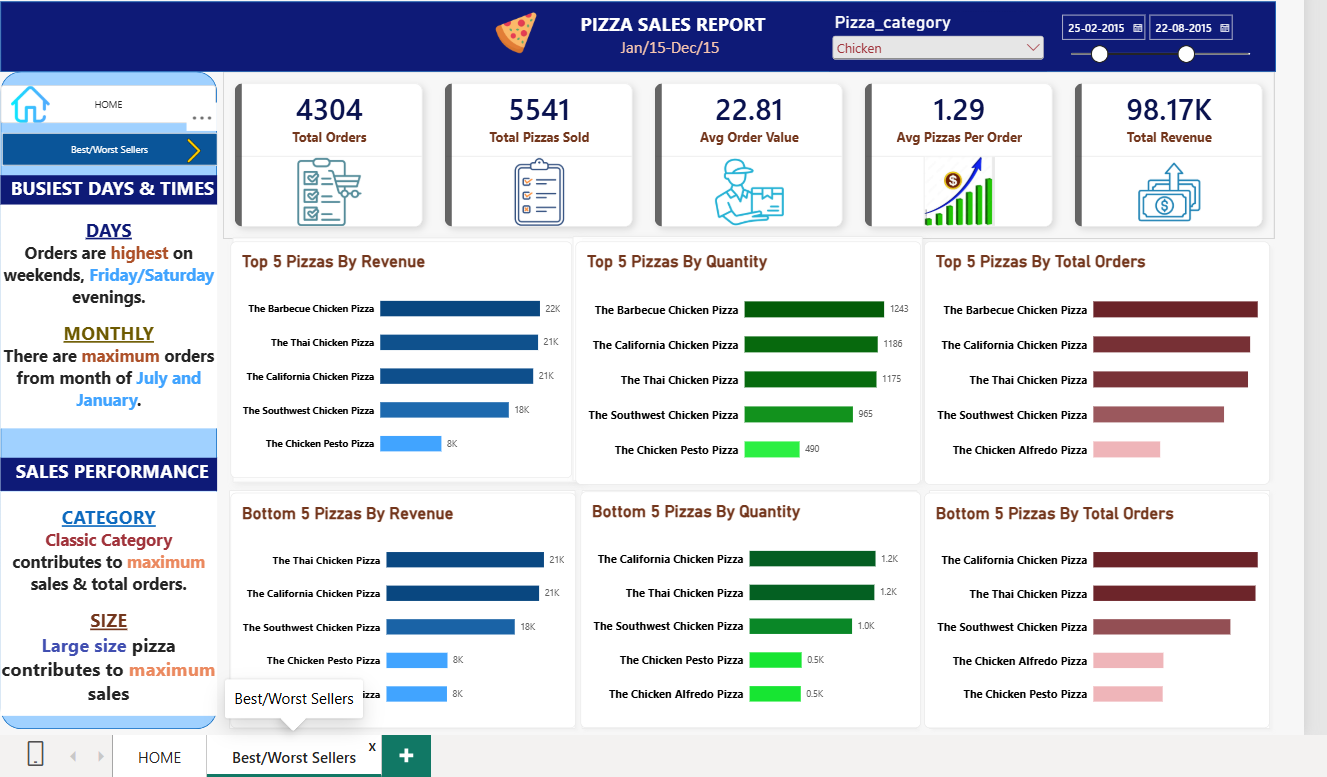

The dashboard page shown, as its layout file describes it:
{"tool":"powerbi","page":{"name":"Best/Worst Sellers","canvas":[1920,1080],"ordinal":1},"visuals":[{"type":"cardVisual","fields":{"Data":["pizza_sales.Total Orders","pizza_sales.Total Pizzas Sold","pizza_sales.Avg Order Value","pizza_sales.Avg Pizzas Per Order","pizza_sales.Total Revenue"]},"box":[353.8,119.2,1525,242.3],"z":0},{"type":"shape","box":[353.8,346.2,534.6,382.7],"z":1000},{"type":"shape","box":[1365.4,361.5,515.4,357.7],"z":2000},{"type":"shape","box":[353.8,717.3,519.2,363.5],"z":3000},{"type":"shape","box":[865.4,717.3,503.8,363.5],"z":4000},{"type":"shape","box":[1367.3,717.3,511.5,363.5],"z":5000},{"type":"shape","box":[32.7,17.3,1846.2,101.9],"z":6000},{"type":"textbox","box":[930.8,69.2,167.3,50],"z":7000},{"type":"textbox","box":[865.4,32.7,286.5,36.5],"z":8000},{"type":"textbox","box":[32.7,726.9,142.3,113.5],"z":9000},{"type":"image","box":[713.5,32.7,132.7,61.5],"z":10000},{"type":"shape","box":[32.7,119.2,313.5,951.9],"z":11000},{"type":"slicer","fields":{"Values":["pizza_sales.pizza_category"]},"box":[1232.7,32.7,315.4,86.5],"z":12000},{"type":"slicer","fields":{"Values":["pizza_sales.order_date"]},"box":[1561.1,33.3,296.3,85.2],"z":13000},{"type":"textbox","box":[32.7,311.5,313.5,325],"z":14000},{"type":"textbox","box":[32.7,726.9,313.5,325],"z":15000},{"type":"textbox","box":[32.7,269.2,313.5,42.3],"z":16000},{"type":"textbox","box":[32.7,678.8,313.5,48.1],"z":17000},{"type":"shape","box":[846.2,344.2,534.6,382.7],"z":18000},{"type":"barChart","title":"Top 5 Pizzas By Revenue","fields":{"Category":["pizza_sales.pizza_name"],"Y":["pizza_sales.Total Revenue"]},"box":[364.8,364.8,494.2,342.3],"z":19000},{"type":"barChart","title":"Bottom 5 Pizzas By Revenue","fields":{"Category":["pizza_sales.pizza_name"],"Y":["pizza_sales.Total Revenue"]},"box":[364.8,729.6,500,340.7],"z":20000},{"type":"barChart","title":"Top 5 Pizzas By Quantity","fields":{"Category":["pizza_sales.pizza_name"],"Y":["pizza_sales.Total Pizzas Sold"]},"box":[864.8,364.8,500,351.9],"z":21000},{"type":"barChart","title":"Bottom 5 Pizzas By Quantity","fields":{"Category":["pizza_sales.pizza_name"],"Y":["pizza_sales.Total Pizzas Sold"]},"box":[872.2,727.8,492.6,342.6],"z":22000},{"type":"barChart","title":"Top 5 Pizzas By Total Orders","fields":{"Category":["pizza_sales.pizza_name"],"Y":["pizza_sales.Total Orders"]},"box":[1370.4,364.8,500,351.9],"z":23000},{"type":"barChart","title":"Bottom 5 Pizzas By Total Orders","fields":{"Category":["pizza_sales.pizza_name"],"Y":["pizza_sales.Total Orders"]},"box":[1370.4,729.6,500,340.7],"z":24000},{"type":"pageNavigator","box":[33.3,138.9,313,55.6],"z":25000},{"type":"pageNavigator","box":[35.2,207.4,313,48.1],"z":26000},{"type":"image","box":[46.3,138.9,57.4,55.6],"z":26001},{"type":"image","box":[294.4,211.1,35.2,44.4],"z":26002}]}

Visuals, with their boxes on the page's 1920x1080 design canvas (x1, y1, x2, y2). These are canvas units, not pixel positions in the 1327x777 screenshot, which may show the page scaled, cropped or inside an application window:
cardVisual - pizza_sales.Total Orders x pizza_sales.Total Pizzas Sold: <bbox>354, 119, 1879, 362</bbox>
shape: <bbox>354, 346, 888, 729</bbox>
shape: <bbox>1365, 362, 1881, 719</bbox>
shape: <bbox>354, 717, 873, 1081</bbox>
shape: <bbox>865, 717, 1369, 1081</bbox>
shape: <bbox>1367, 717, 1879, 1081</bbox>
shape: <bbox>33, 17, 1879, 119</bbox>
textbox: <bbox>931, 69, 1098, 119</bbox>
textbox: <bbox>865, 33, 1152, 69</bbox>
textbox: <bbox>33, 727, 175, 840</bbox>
image: <bbox>714, 33, 846, 94</bbox>
shape: <bbox>33, 119, 346, 1071</bbox>
slicer - pizza_sales.pizza_category: <bbox>1233, 33, 1548, 119</bbox>
slicer - pizza_sales.order_date: <bbox>1561, 33, 1857, 118</bbox>
textbox: <bbox>33, 312, 346, 636</bbox>
textbox: <bbox>33, 727, 346, 1052</bbox>
textbox: <bbox>33, 269, 346, 312</bbox>
textbox: <bbox>33, 679, 346, 727</bbox>
shape: <bbox>846, 344, 1381, 727</bbox>
"Top 5 Pizzas By Revenue" barChart: <bbox>365, 365, 859, 707</bbox>
"Bottom 5 Pizzas By Revenue" barChart: <bbox>365, 730, 865, 1070</bbox>
"Top 5 Pizzas By Quantity" barChart: <bbox>865, 365, 1365, 717</bbox>
"Bottom 5 Pizzas By Quantity" barChart: <bbox>872, 728, 1365, 1070</bbox>
"Top 5 Pizzas By Total Orders" barChart: <bbox>1370, 365, 1870, 717</bbox>
"Bottom 5 Pizzas By Total Orders" barChart: <bbox>1370, 730, 1870, 1070</bbox>
pageNavigator: <bbox>33, 139, 346, 194</bbox>
pageNavigator: <bbox>35, 207, 348, 256</bbox>
image: <bbox>46, 139, 104, 194</bbox>
image: <bbox>294, 211, 330, 256</bbox>
